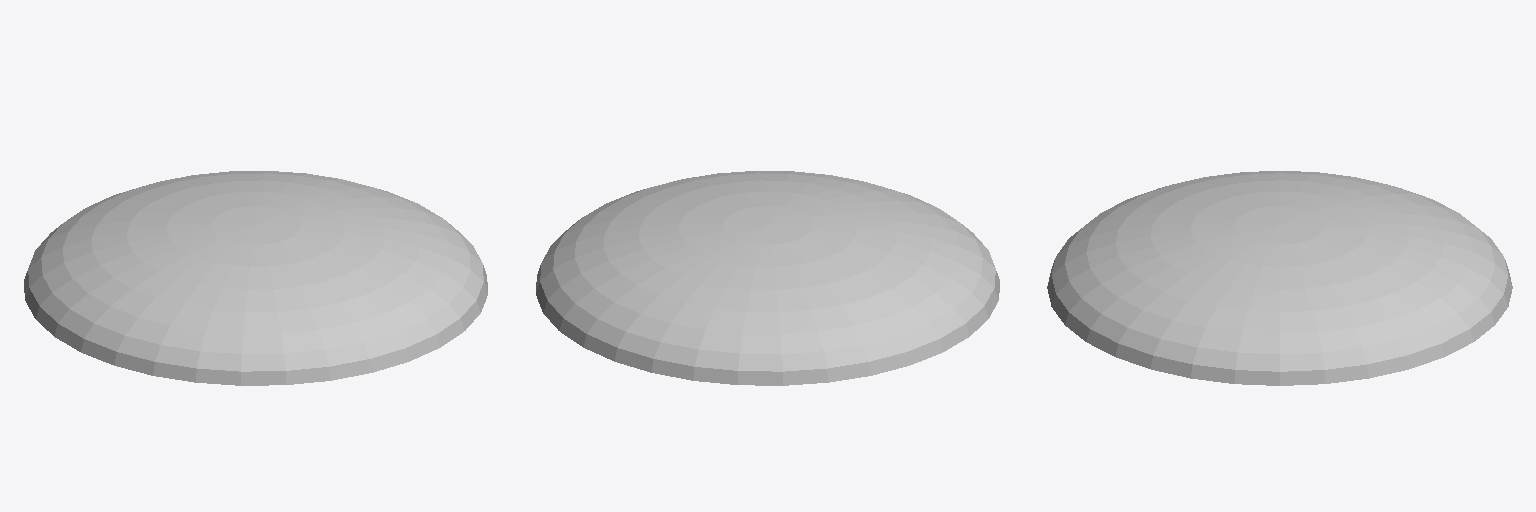
Rendered from ufoInterior.obj.
3 views of the same model, side by side, from view 1: azimuth 30°, elevation 25°; view 2: azimuth 150°, elevation 25°; view 3: azimuth 270°, elevation 25° (orthographic).
Parts seen in each view (by area): view 1: UfoInterior; view 2: UfoInterior; view 3: UfoInterior.
Part boxes in pixels (left/top/right/bottom): UfoInterior: left=24, top=171, right=487, bottom=385; UfoInterior: left=536, top=171, right=999, bottom=385; UfoInterior: left=1047, top=171, right=1512, bottom=385.
Bounding box in the file's own units: 41.7 × 6.25 × 41.7.